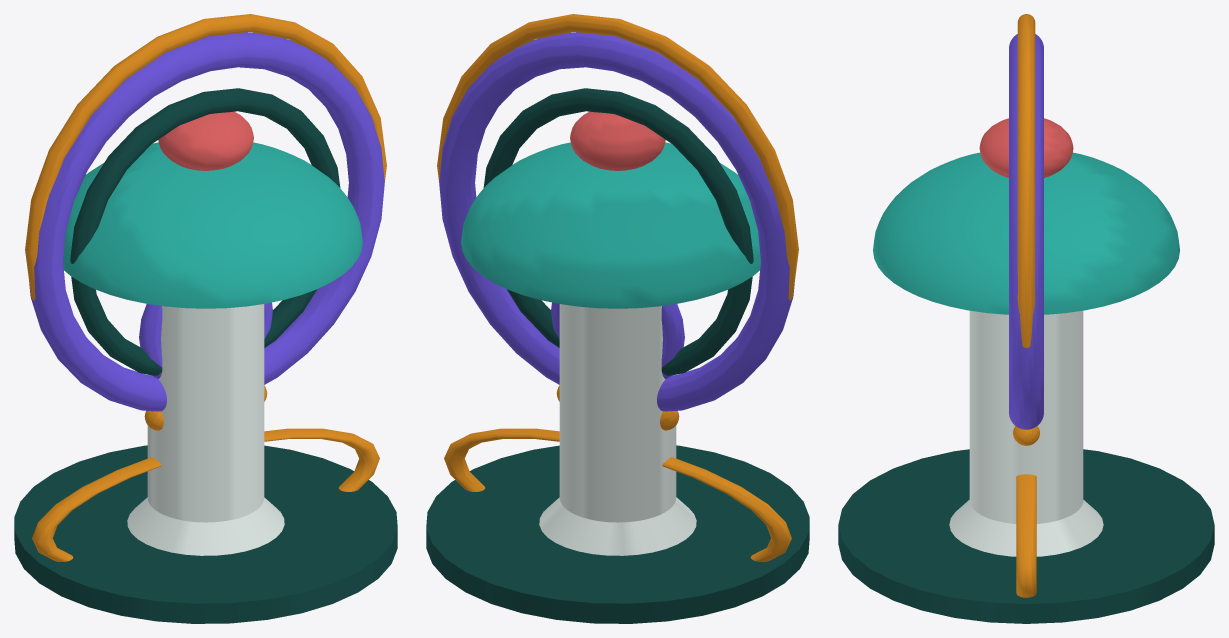
Rendered from 0616_蘑菇图鉴_奥氏蜜环菌.glb.
3 renders of one model, left to right at view 1: azimuth 30°, elevation 25°; view 2: azimuth 150°, elevation 25°; view 3: azimuth 270°, elevation 25°, orthographic. The views are drawn at different scales.
Visible parts, largest first — view 1: card_0616; view 2: card_0616; view 3: card_0616.
Boxes of the visible parts, left/top/right/bottom form: card_0616: left=14, top=14, right=397, bottom=623; card_0616: left=426, top=14, right=809, bottom=623; card_0616: left=838, top=14, right=1214, bottom=623.
Size of the model in its own units: 0.7059 by 1 by 0.6536.
